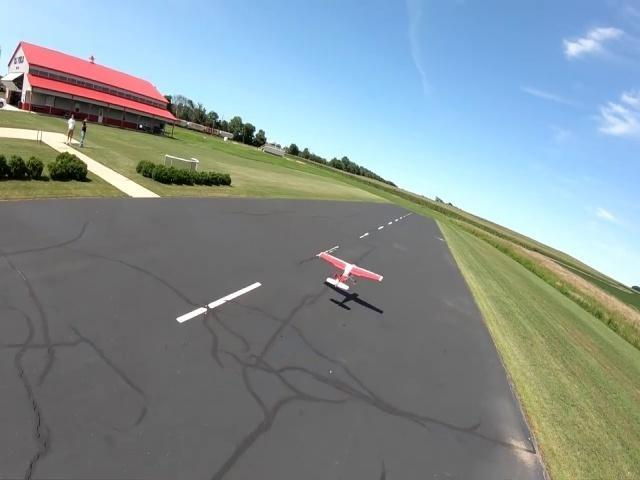Airplane: (316, 251, 383, 290)
